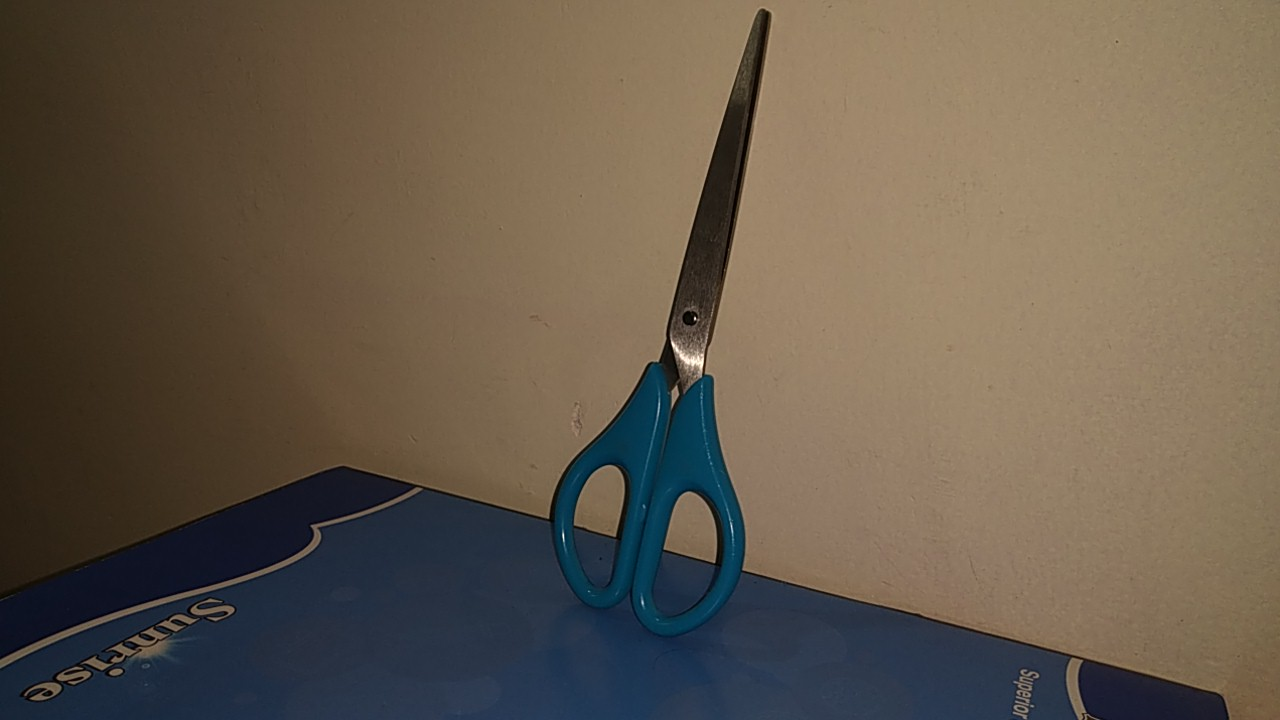scissor: (545, 4, 789, 644)
